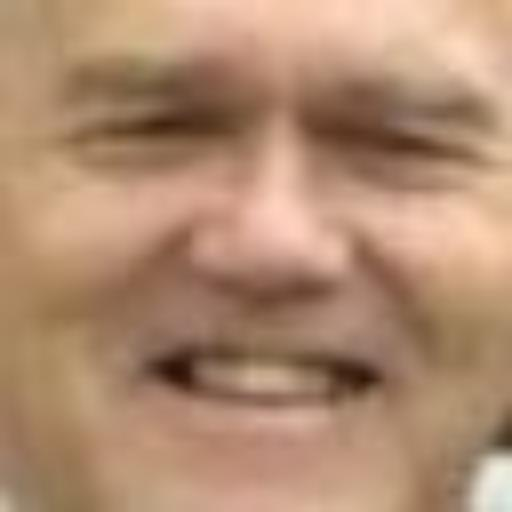left_eye: (329, 101, 487, 183)
left_lip_corner: (351, 349, 400, 404)
right_eye: (50, 102, 237, 163)
right_lip_corner: (129, 339, 203, 392)
